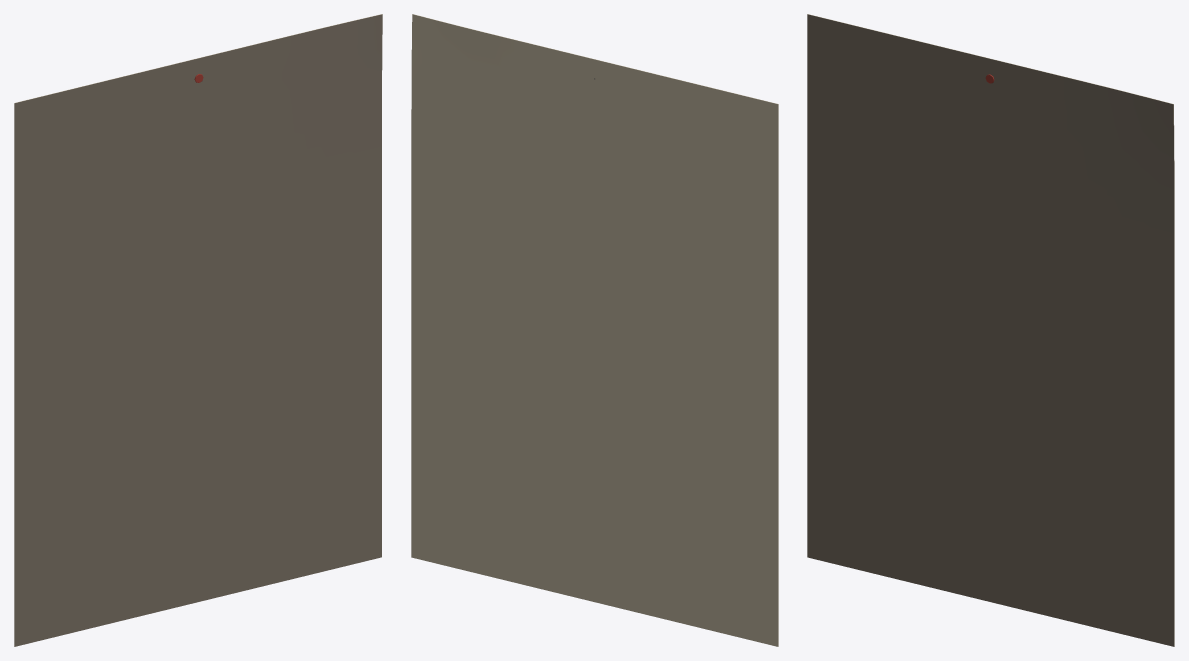
Rendered from wiring-diagram-cf4e2a52e260.glb.
3 views of the same model, side by side, from view 1: azimuth 30°, elevation 25°; view 2: azimuth 150°, elevation 25°; view 3: azimuth 330°, elevation 25° (orthographic).
Visible parts, largest first — view 1: cover-print, paper; view 2: paper; view 3: cover-print, paper.
Part boxes in pixels (left/top/right/bottom): cover-print: left=14, top=14, right=382, bottom=646; paper: left=14, top=14, right=382, bottom=646; paper: left=411, top=14, right=778, bottom=646; cover-print: left=807, top=14, right=1174, bottom=646; paper: left=807, top=14, right=1174, bottom=646.
Size of the model in its own units: 0.297 by 0.42 by 0.0021.
